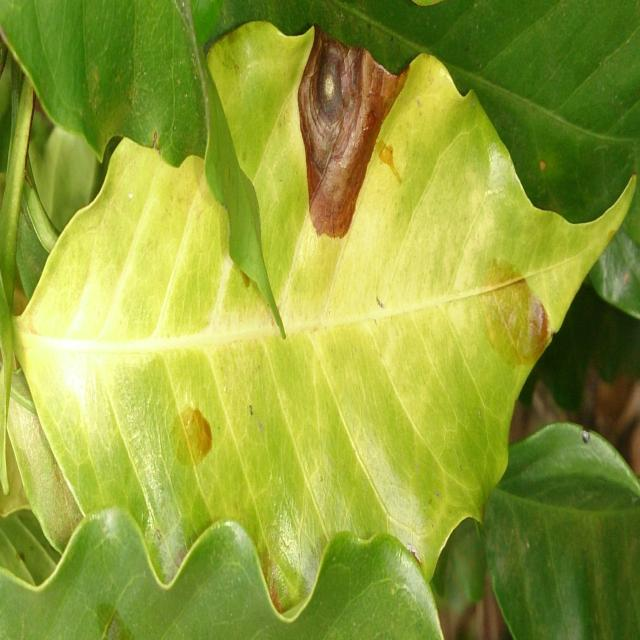Enfermedad-Mancha-de-hierro: (15, 21, 638, 622)
